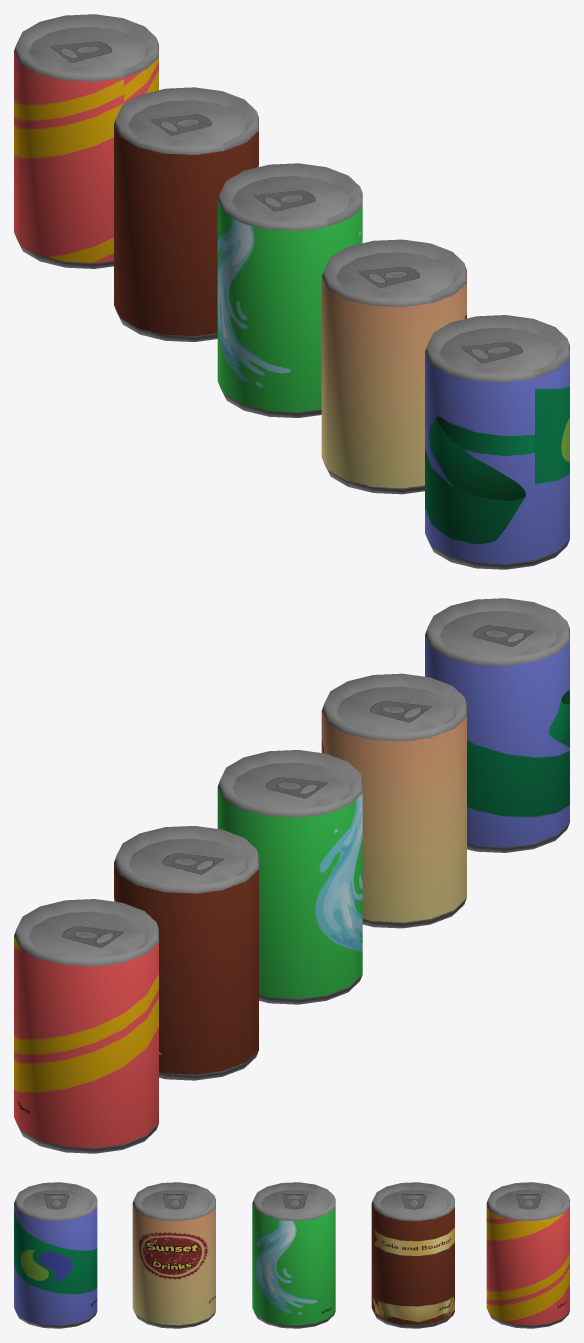
The model's file is AllCans.fbx.
3 views of the same model, one above another, from view 1: azimuth 30°, elevation 25°; view 2: azimuth 150°, elevation 25°; view 3: azimuth 270°, elevation 25° (orthographic). The views are drawn at different scales.
Visible parts, largest first — view 1: Can.001, Can.003, Can.002, Can.004, Can.005; view 2: Can.005, Can.002, Can.003, Can.001, Can.004; view 3: Can.001, Can.003, Can.004, Can.002, Can.005.
Boxes of the visible parts, bbox=[...] form: Can.001: bbox=[425, 315, 569, 569]; Can.003: bbox=[217, 163, 362, 417]; Can.002: bbox=[321, 239, 466, 494]; Can.004: bbox=[114, 87, 258, 341]; Can.005: bbox=[14, 14, 158, 268]; Can.005: bbox=[14, 899, 158, 1153]; Can.002: bbox=[321, 673, 466, 928]; Can.003: bbox=[217, 750, 362, 1004]; Can.001: bbox=[425, 598, 569, 852]; Can.004: bbox=[114, 826, 258, 1080]; Can.001: bbox=[14, 1182, 97, 1328]; Can.003: bbox=[252, 1182, 335, 1328]; Can.004: bbox=[371, 1182, 454, 1328]; Can.002: bbox=[132, 1182, 215, 1328]; Can.005: bbox=[486, 1182, 569, 1328].
Bounding box in the file's own units: 23.18 × 34.25 × 154.
